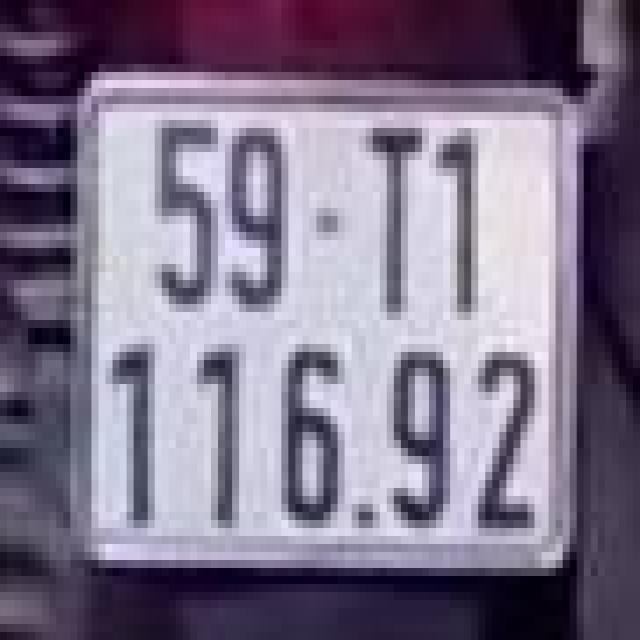1: (105, 328, 183, 536), (429, 120, 499, 328), (186, 324, 250, 540)
2: (468, 328, 545, 536)
5: (141, 104, 225, 320)
6: (271, 336, 348, 528)
9: (225, 108, 302, 324), (383, 340, 461, 540)
T: (359, 108, 429, 332)
